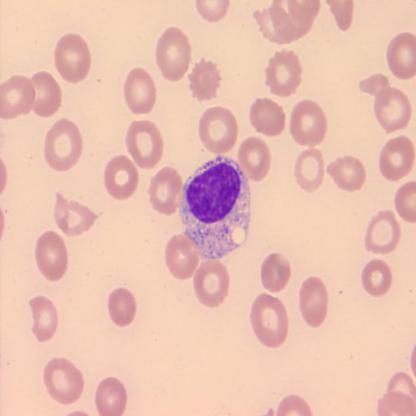Metamyelocyte: (178, 154, 254, 264)
